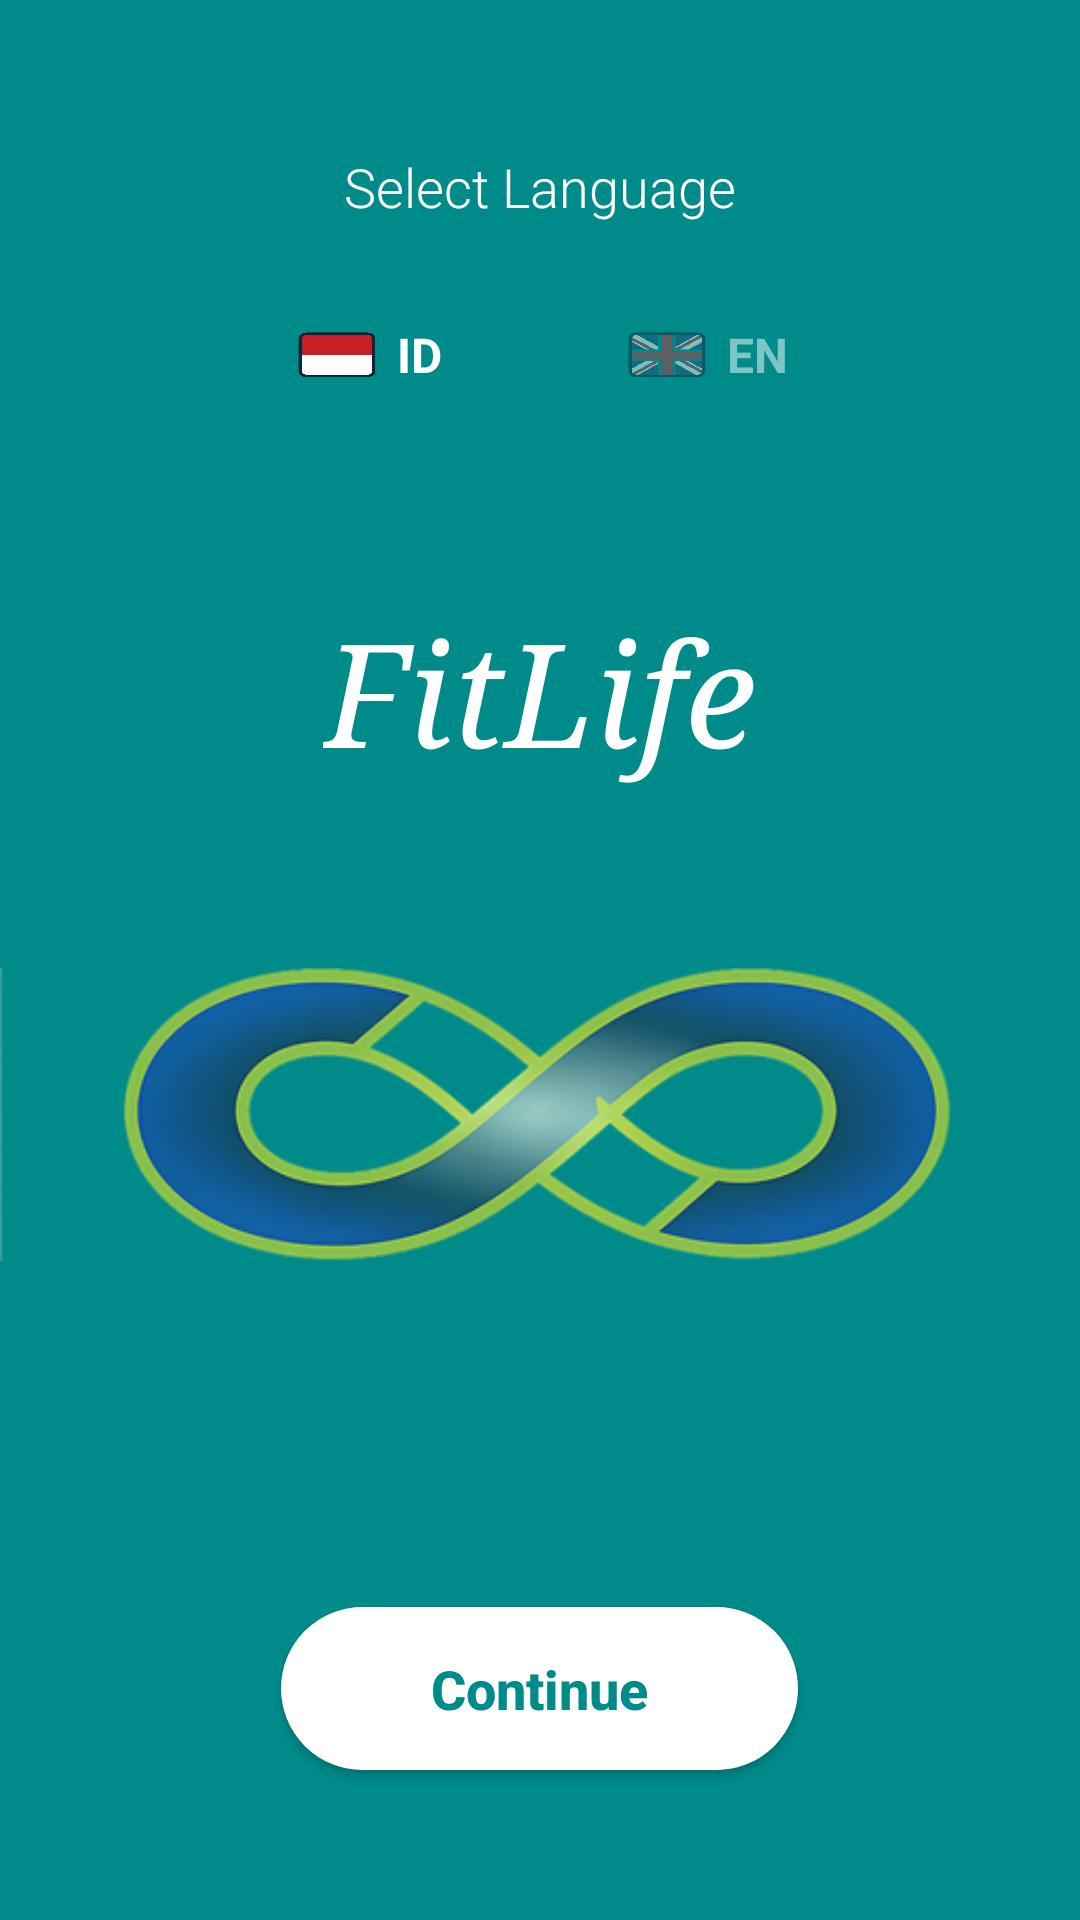

Screen size 1080×1920. Icon name, then its box in pixels as detection(x1, y1, x2, y2):
flag indonesia: detection(298, 332, 375, 377)
flag uk: detection(629, 332, 705, 377)
